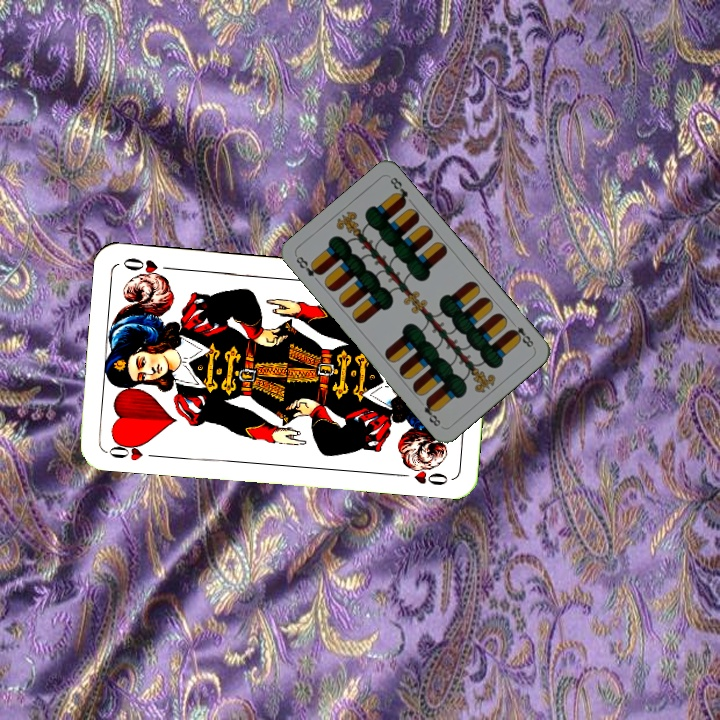E8: (506, 322, 537, 351), (292, 252, 325, 279)
HO: (103, 436, 162, 464)
